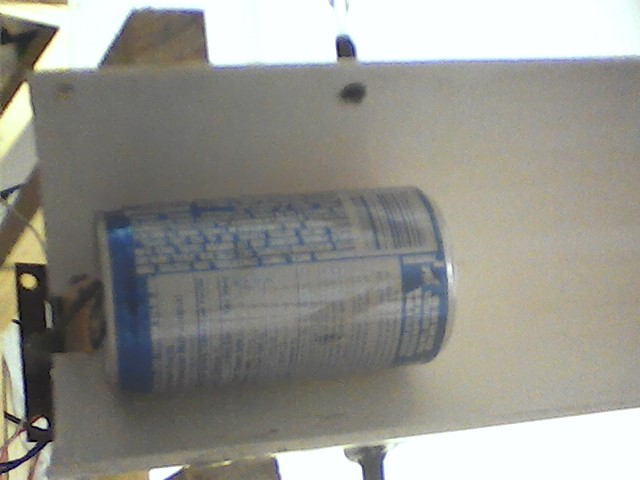lata: (92, 184, 467, 391)
